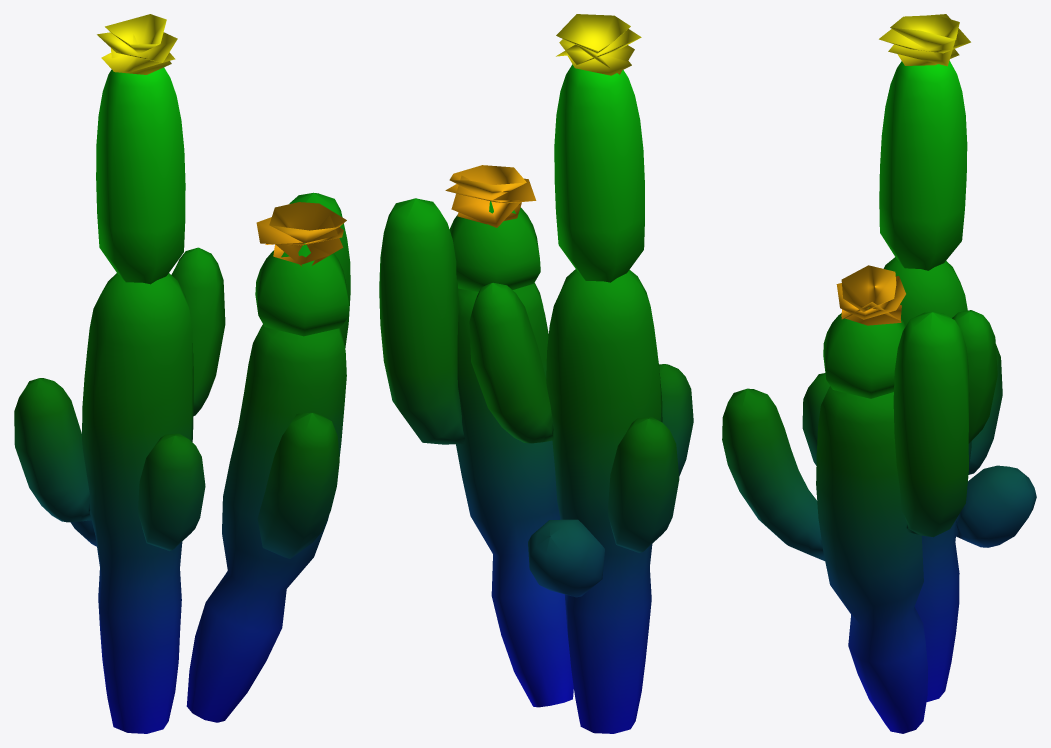
File: Grocactus8.fbx
3 renders of one model, left to right at view 1: azimuth 30°, elevation 25°; view 2: azimuth 150°, elevation 25°; view 3: azimuth 270°, elevation 25°, orthographic. The views are drawn at different scales.
Visible parts, largest first — view 1: Grocactus8_LOD0; view 2: Grocactus8_LOD0; view 3: Grocactus8_LOD0.
Part boxes in pixels (bbox=[...]): Grocactus8_LOD0: bbox=[14, 14, 350, 733]; Grocactus8_LOD0: bbox=[379, 14, 693, 733]; Grocactus8_LOD0: bbox=[722, 14, 1036, 733].
Size of what is drawn, in the model's own units: 299 by 653 by 274.
